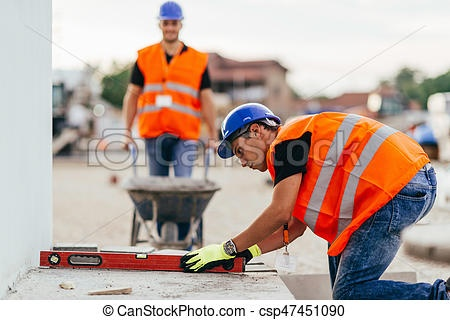blue: (221, 104, 274, 176), (158, 1, 183, 43)
